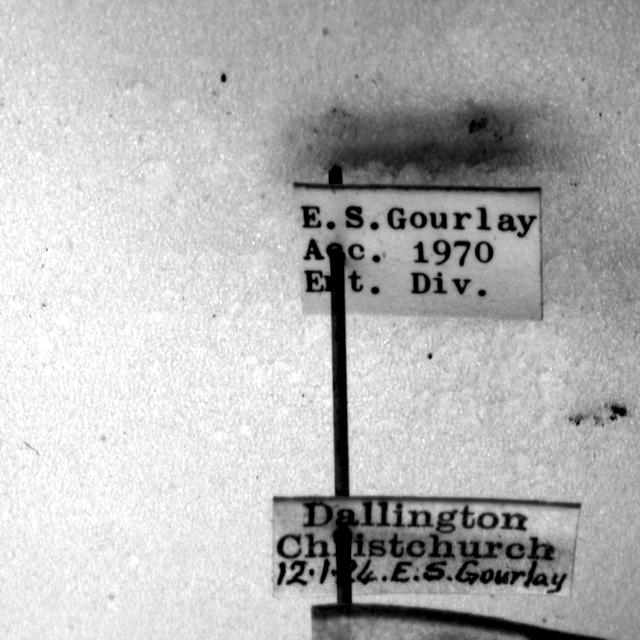mixed_label: (272, 497, 580, 598)
typed_label: (294, 184, 542, 321)
